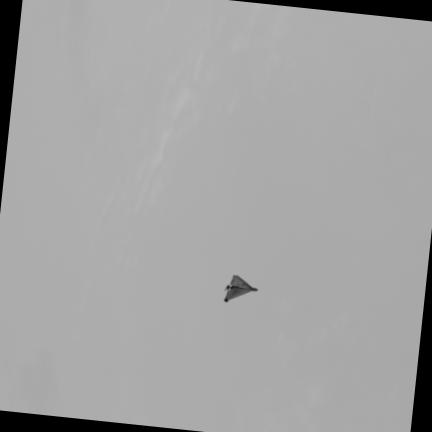Shahed: (224, 277, 257, 301)
